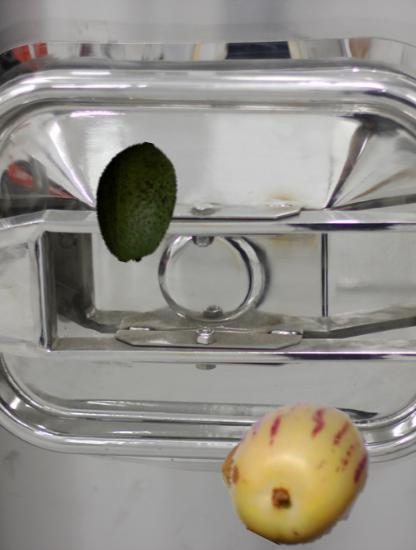Avocado: (74, 141, 197, 264)
Nut: (217, 442, 281, 506)
Pepino: (226, 399, 374, 547)
